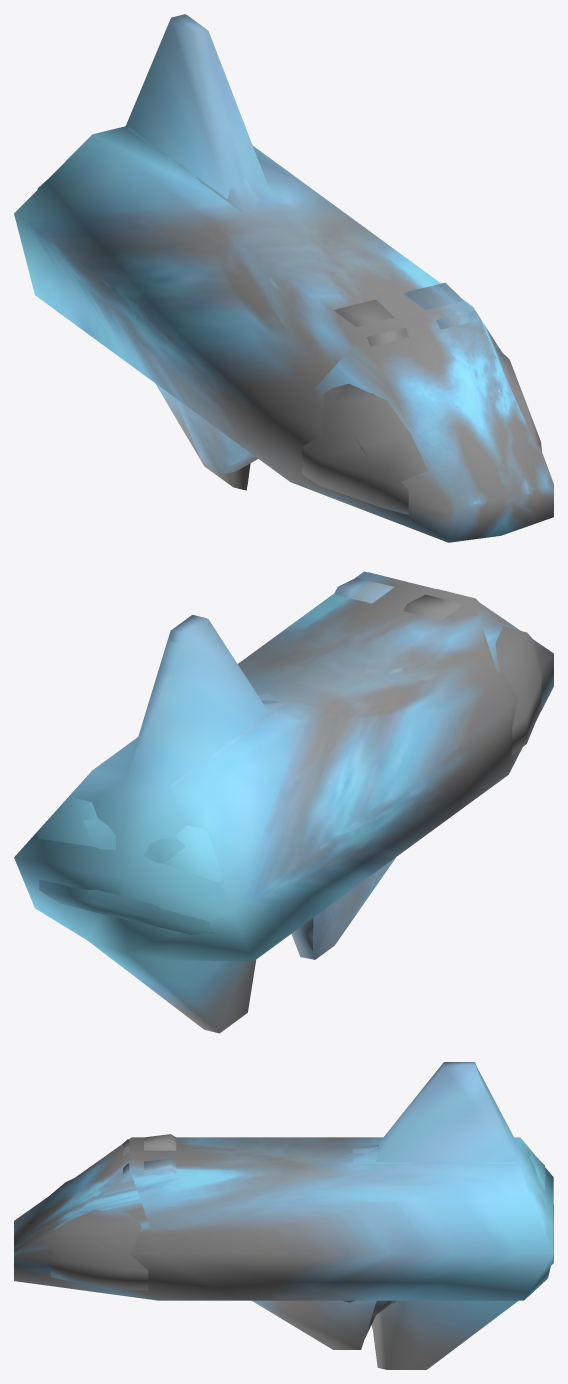
File: mule_shields.obj
The picture shows the model from 3 angles, top to bottom: view 1: azimuth 30°, elevation 25°; view 2: azimuth 150°, elevation 25°; view 3: azimuth 270°, elevation 25°; orthographic projection. The views are drawn at different scales.
Size of the model in its own units: 58.92 by 110 by 177.
